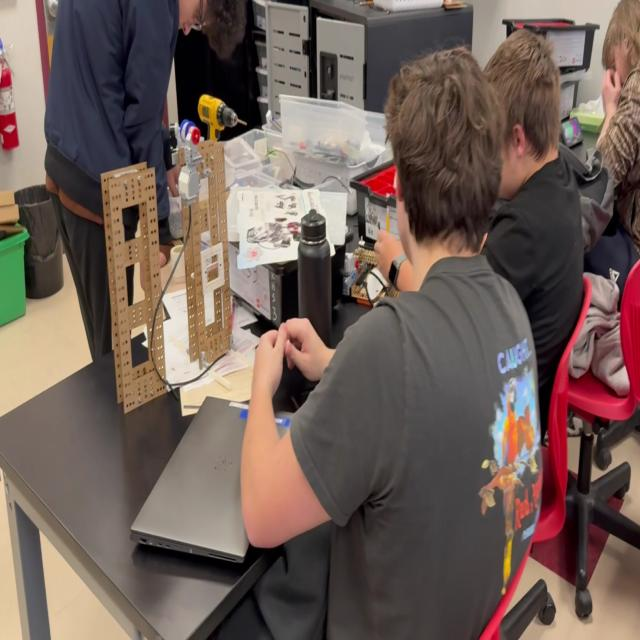pen: (559, 116, 584, 150)
